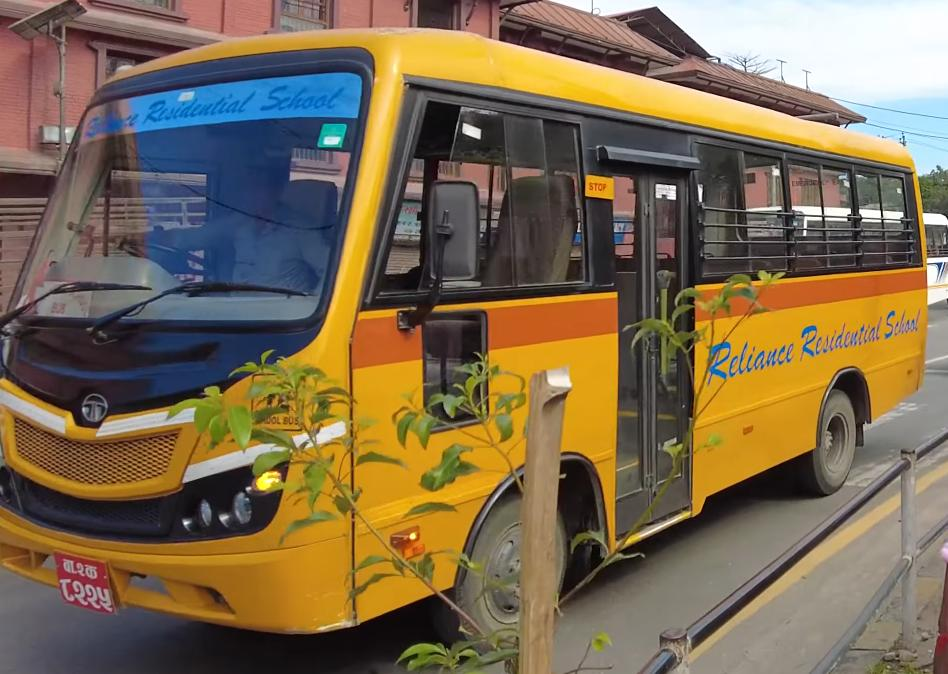school_bus: (0, 17, 936, 655)
